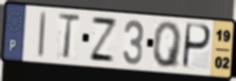3: (122, 18, 145, 66)
I: (36, 10, 48, 60)
P: (180, 21, 213, 72)
Q: (152, 21, 184, 70)
T: (56, 12, 82, 61)
Z: (88, 15, 120, 65)
